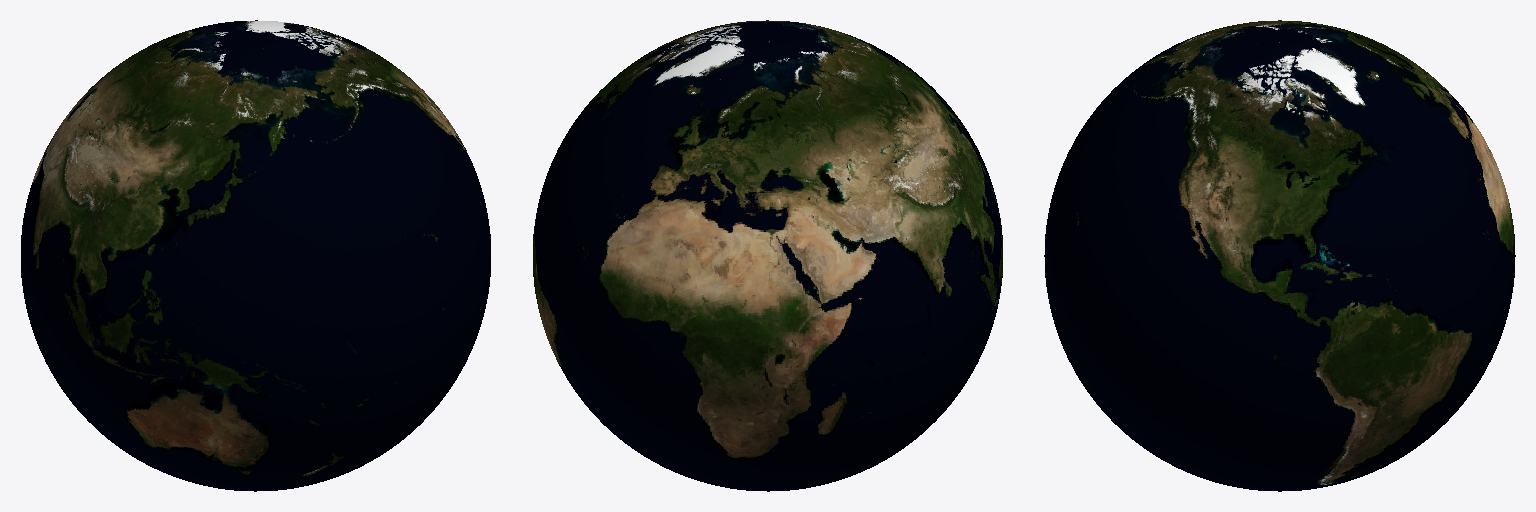
3 renders of one model, left to right at view 1: azimuth 30°, elevation 25°; view 2: azimuth 150°, elevation 25°; view 3: azimuth 270°, elevation 25°, orthographic.
Parts seen in each view (by area): view 1: Sphere; view 2: Sphere; view 3: Sphere.
Boxes of the visible parts, <box> form: Sphere: <box>21,20,490,491</box>; Sphere: <box>533,20,1002,491</box>; Sphere: <box>1044,20,1515,491</box>.
Size of the model in its own units: 2 by 2 by 2.
1 materials, 1 textured.